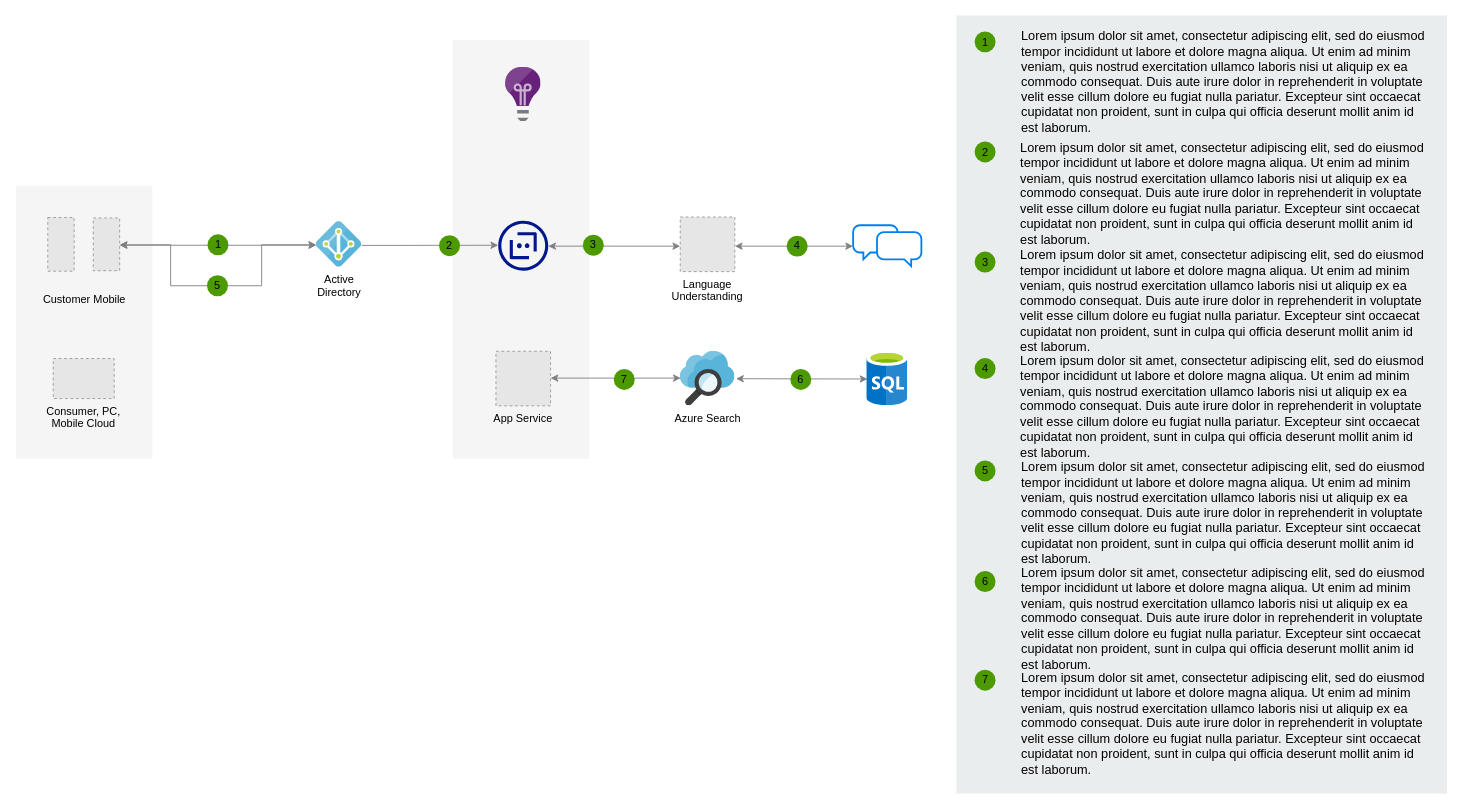
The diagram is 1462 pixels wide and 809 high, and some of its shapes have lost their labels. Grey dashed boxes stand in for pictures. The centre of each missing label's shape, as x and y in pixels:
"Azure App Insights" goes at point 523,94.
"Bot Service" goes at point 523,245.
"Q&A Maker" goes at point 887,245.
"Structured" goes at point 886,378.
